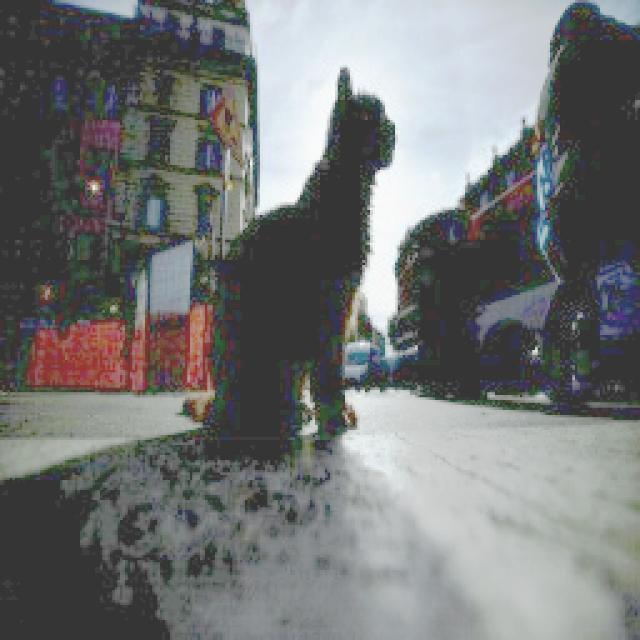cat: (163, 66, 396, 453)
